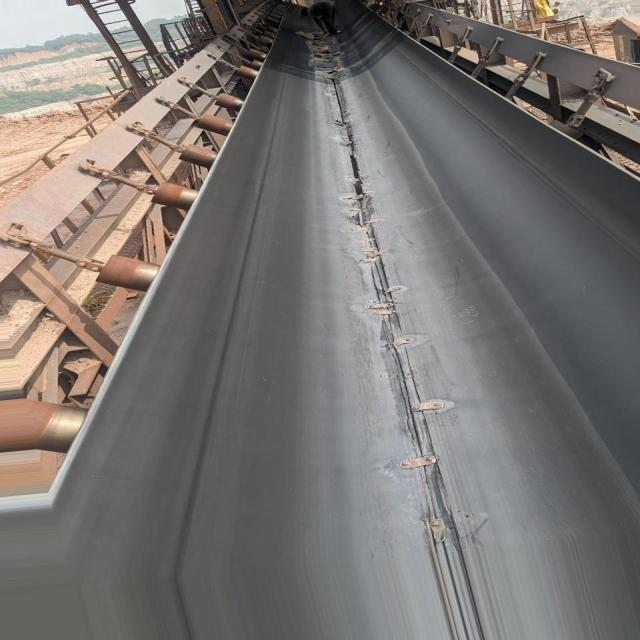Human: (305, 0, 346, 24)
Roller: (101, 9, 280, 290)
Tear: (329, 84, 378, 243)
patch work: (364, 254, 490, 634), (312, 33, 343, 71)
